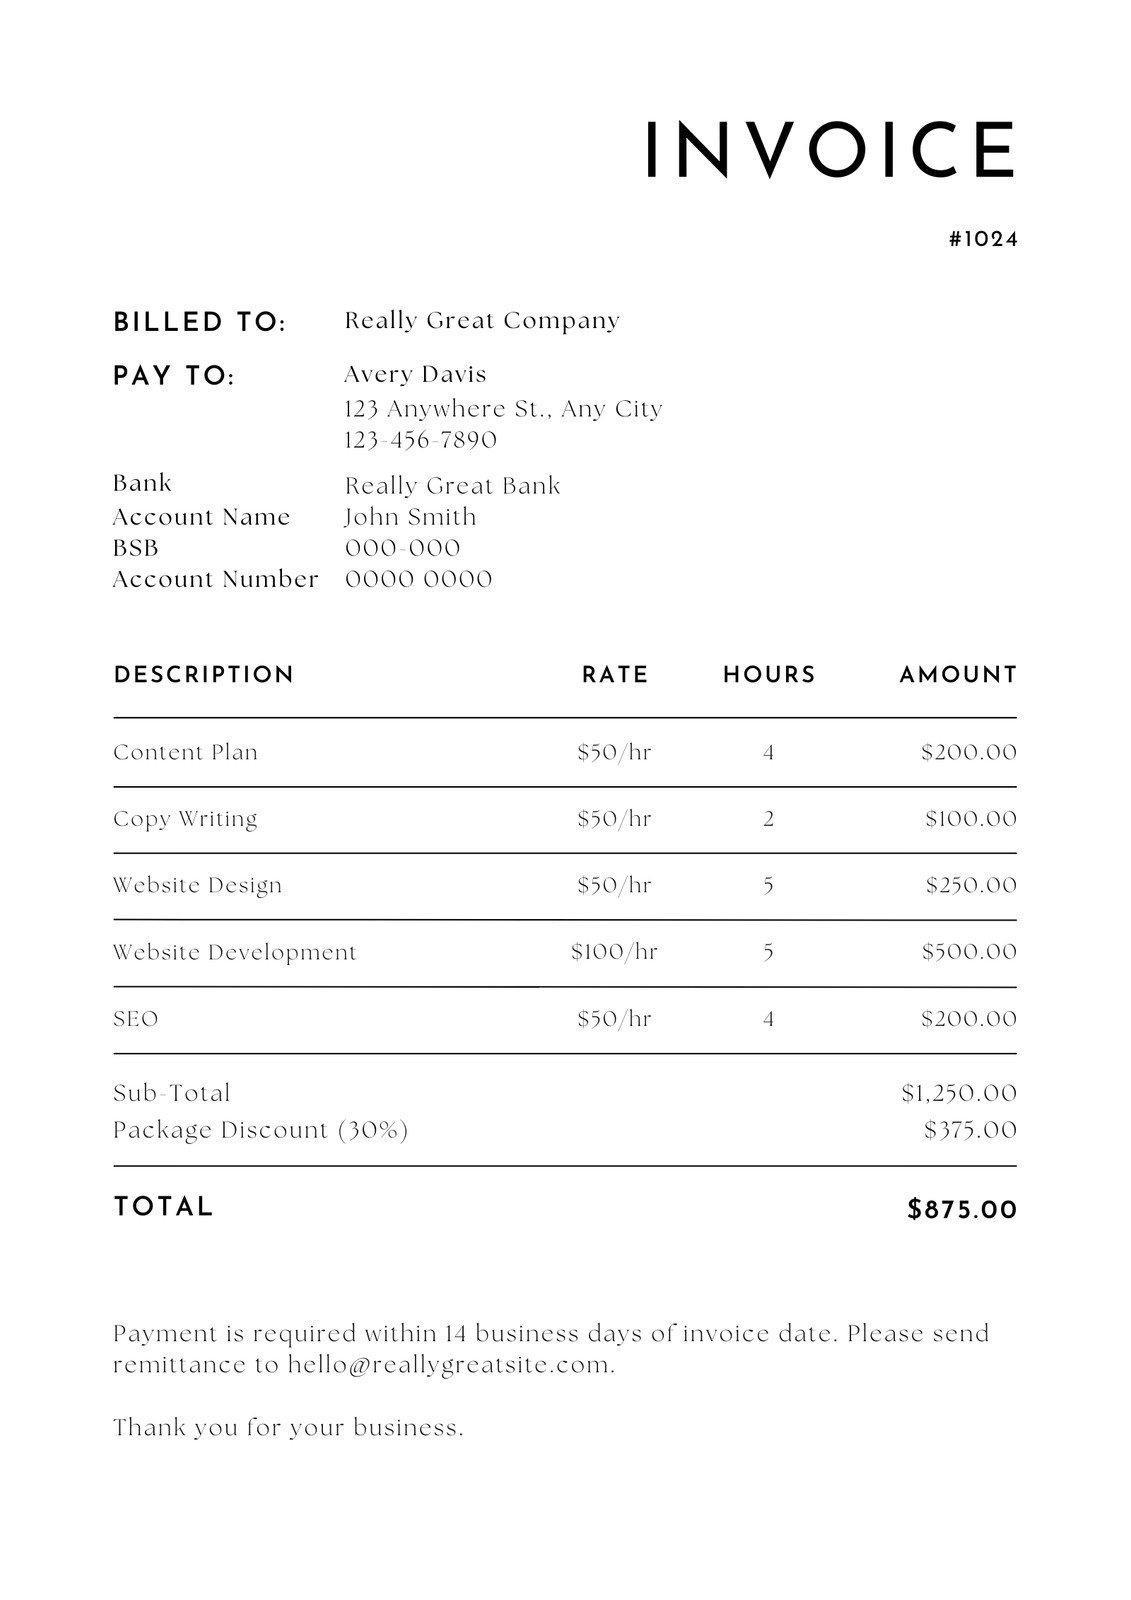ROI: (109, 660, 1031, 1161), (113, 464, 583, 599), (332, 361, 671, 462), (109, 1192, 1029, 1228), (108, 295, 652, 354), (944, 218, 1025, 255)
